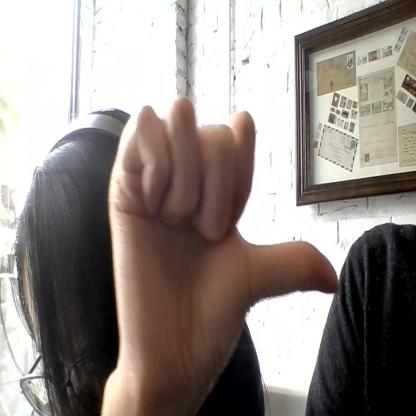left: (103, 96, 340, 381)
